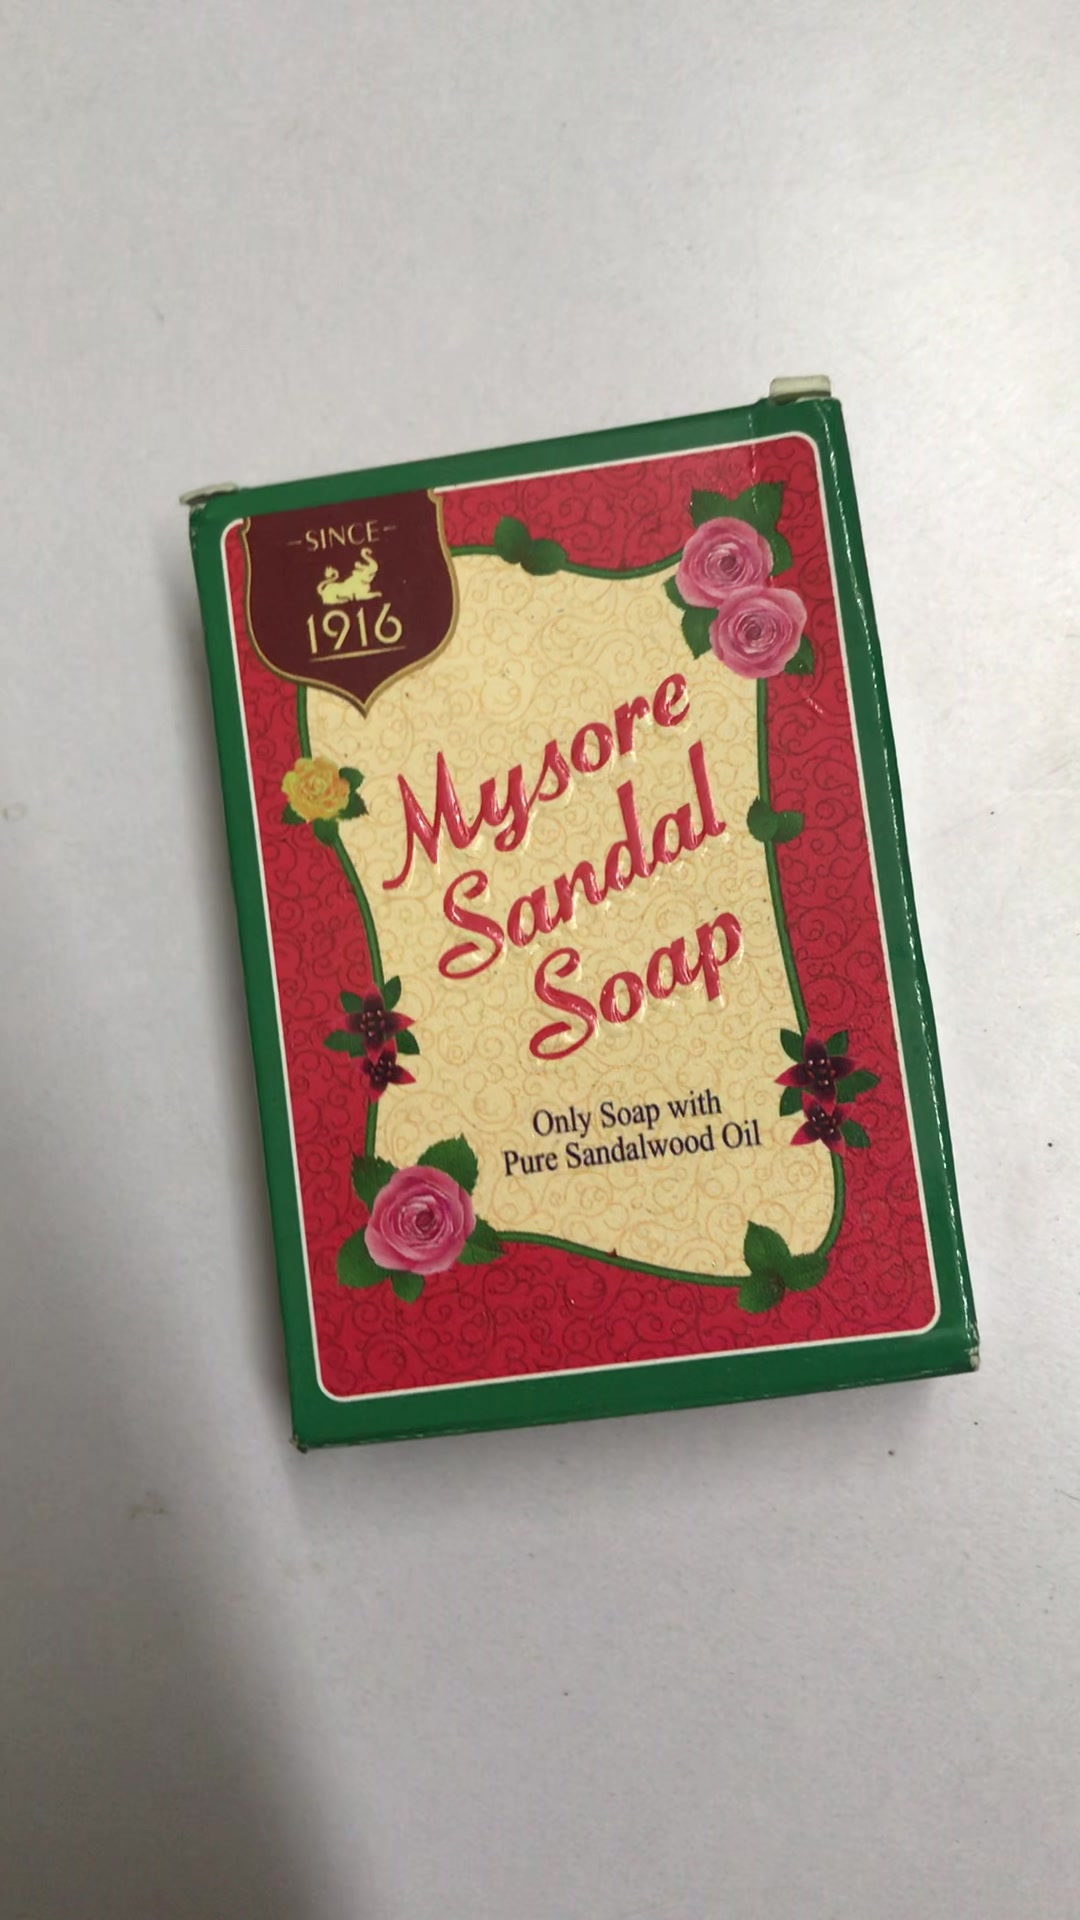mysore sandal soap: (174, 382, 986, 1452)
